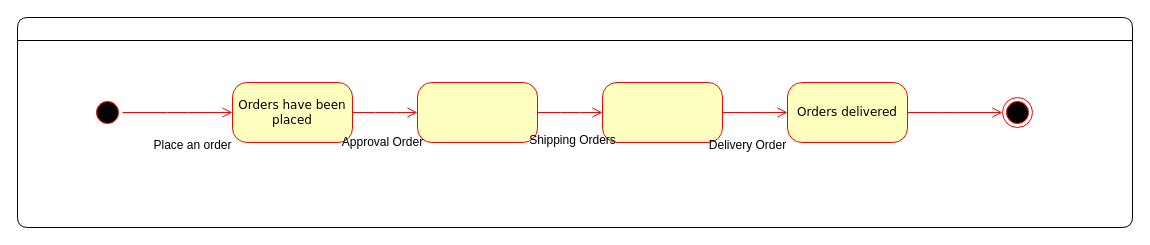
This 1150x245 diagram has some shape labels left out. Each missing label, with the box of its shape:
Orders approved: (416, 82, 538, 142)
Orders shipped: (602, 82, 722, 142)
